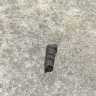Dog: (43, 44, 57, 73)
